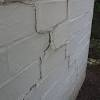stairstep_crack: (3, 0, 69, 70), (19, 30, 50, 99)
